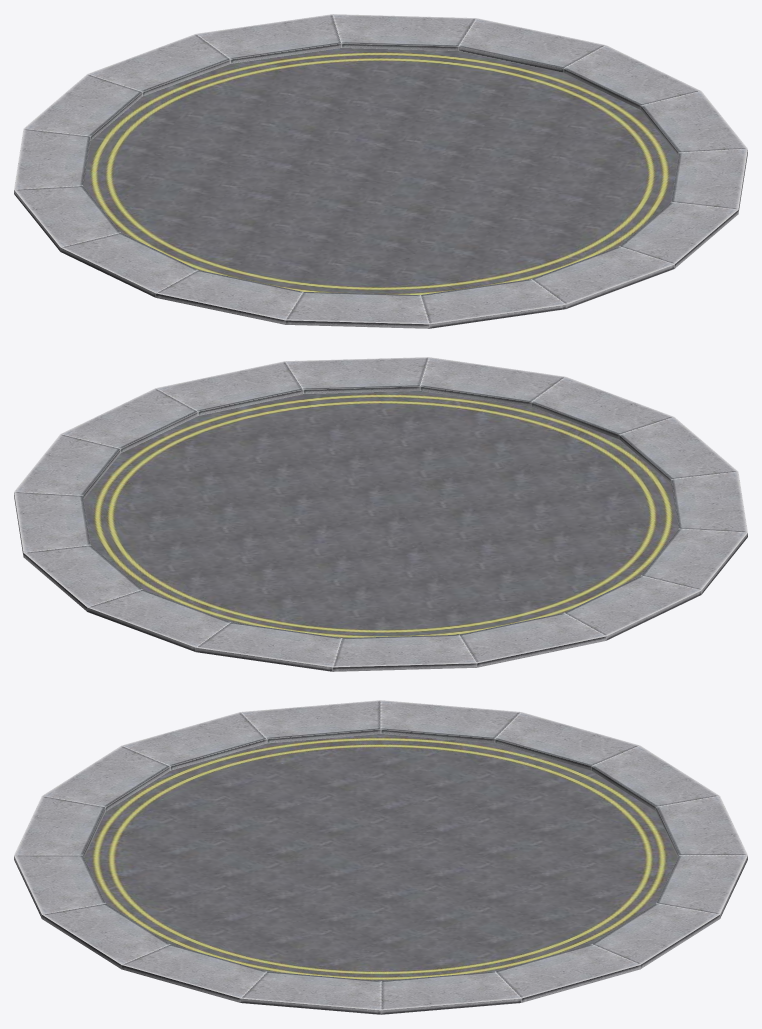
The model's file is Circle_Road_NoExit.glb.
3 renders of one model, top to bottom at view 1: azimuth 30°, elevation 25°; view 2: azimuth 150°, elevation 25°; view 3: azimuth 270°, elevation 25°, orthographic.
Size of the model in its own units: 30 by 0.2041 by 30.
1 material, 1 textured.
